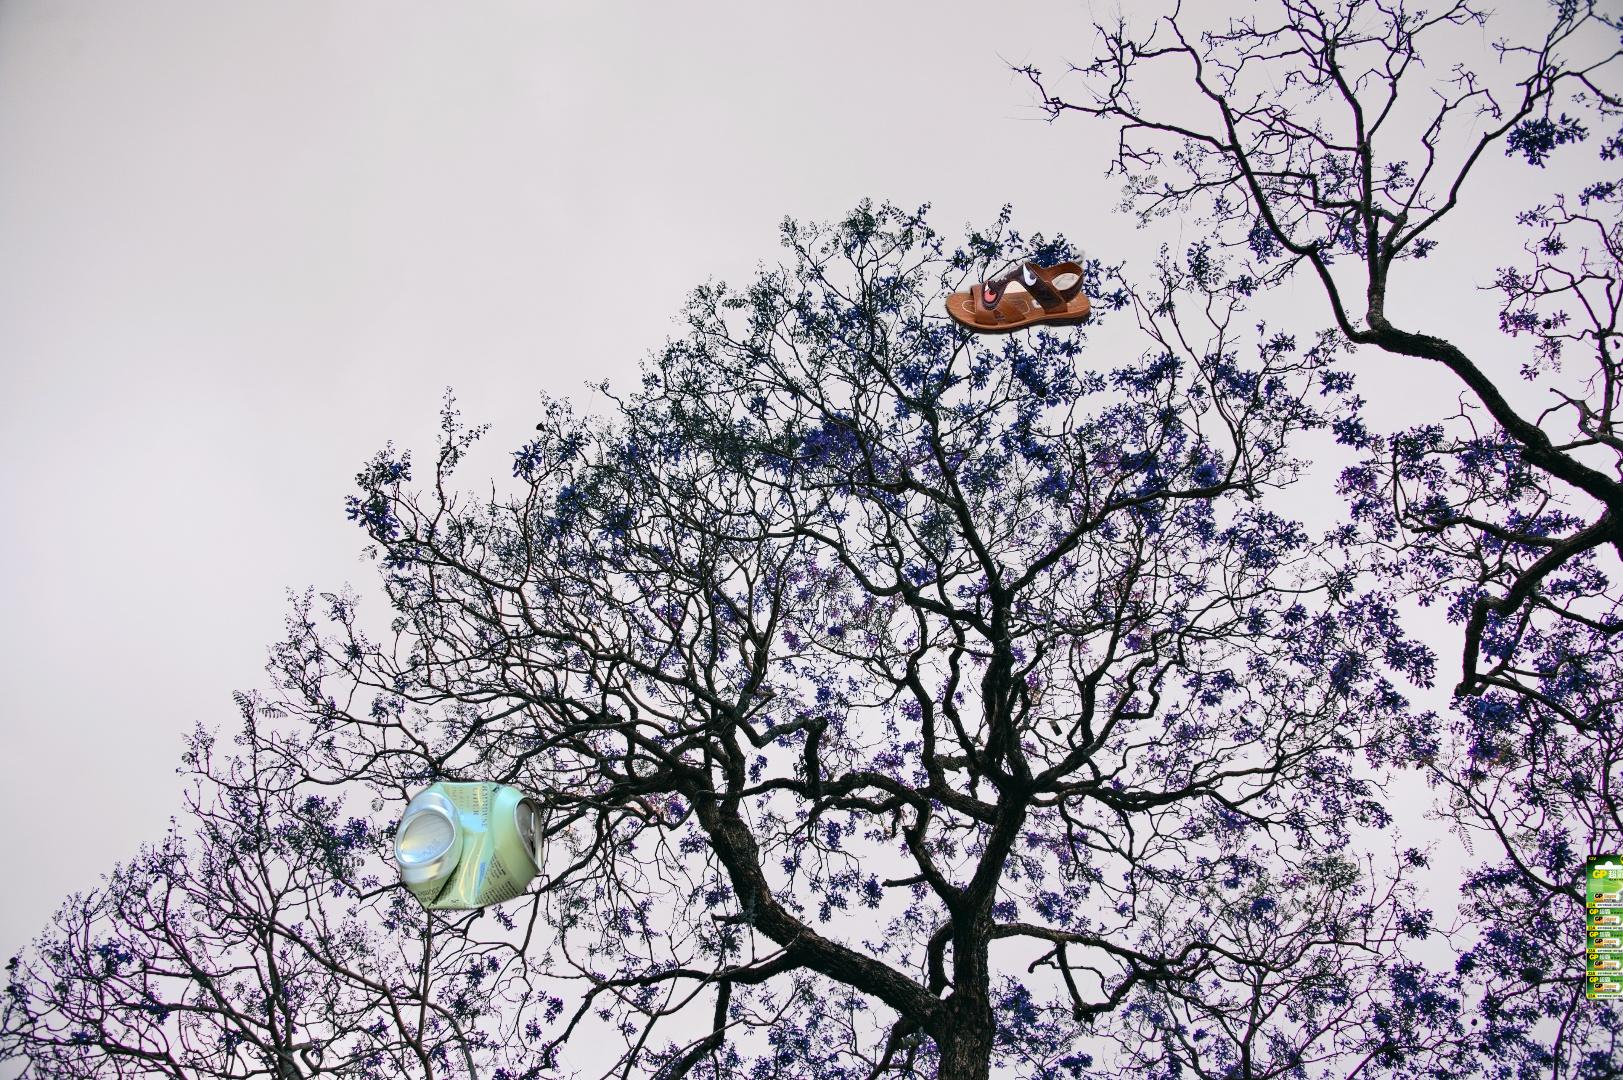battery: (1583, 852, 1623, 1003)
metal-cans: (388, 775, 548, 917)
shoes: (942, 248, 1094, 337)
